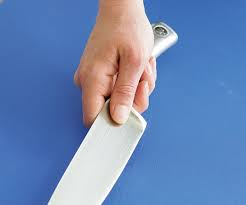knife: (45, 18, 180, 205)
